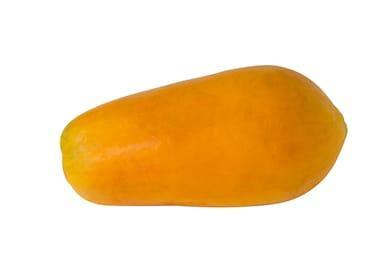papaya: (58, 64, 348, 206)
